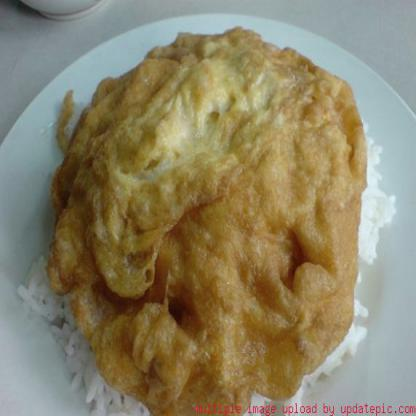Omelette: (36, 34, 388, 410)
